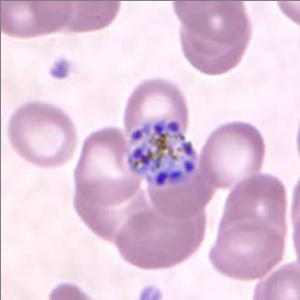Infected: (127, 116, 197, 186)
Uninfected: (75, 127, 140, 207), (115, 210, 206, 267), (72, 172, 148, 239), (125, 78, 188, 158), (220, 173, 286, 249), (144, 151, 214, 217), (181, 6, 247, 74), (209, 219, 286, 277), (199, 121, 264, 189), (8, 102, 73, 167), (174, 0, 247, 43)
